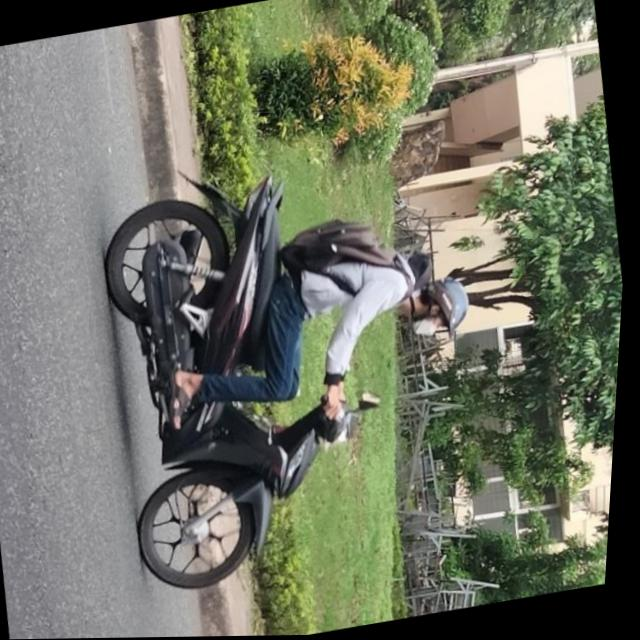WITH_HELMET: (421, 276, 483, 345)
